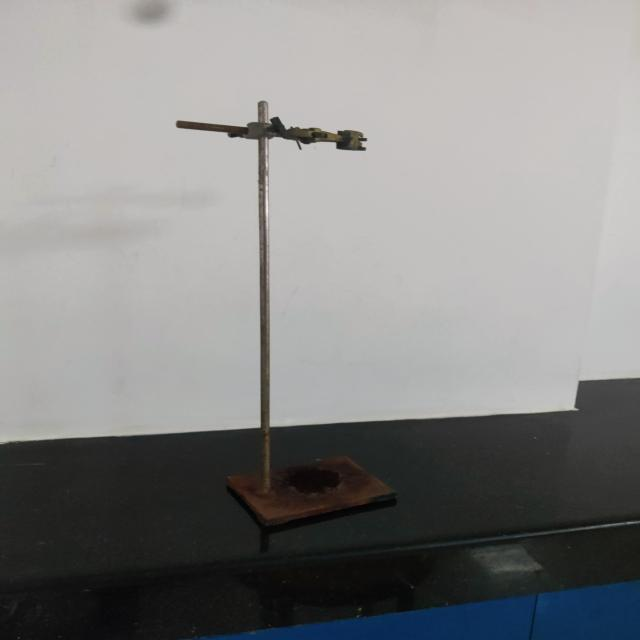Burette_Stands: (117, 88, 424, 535)
